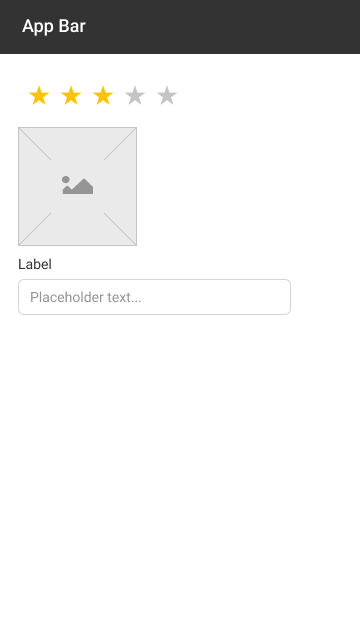editText: (16, 277, 293, 317)
imageView: (16, 125, 139, 250)
ratingBar: (24, 79, 185, 113)
textView: (16, 257, 55, 273)
toolbar: (1, 1, 360, 55)
